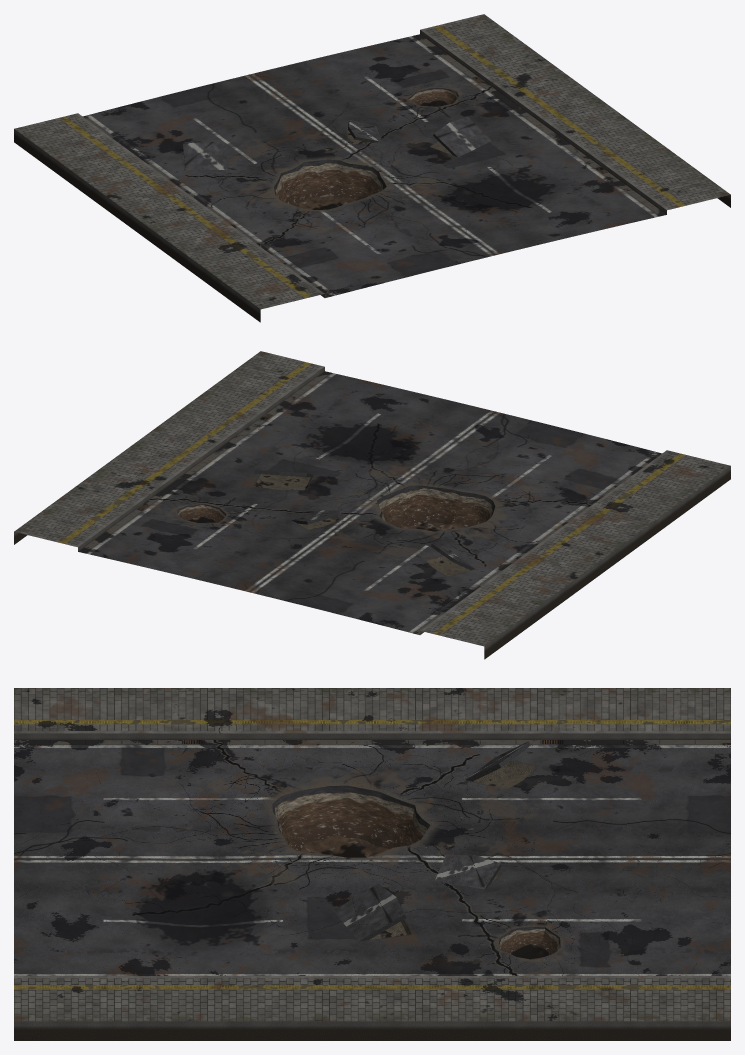
File: Road_Damaged.fbx
3 views of the same model, one above another, from view 1: azimuth 30°, elevation 25°; view 2: azimuth 150°, elevation 25°; view 3: azimuth 270°, elevation 25° (orthographic). The views are drawn at different scales.
Visible parts, largest first — view 1: Road_Damaged; view 2: Road_Damaged; view 3: Road_Damaged.
Part boxes in pixels (<box>): Road_Damaged: <box>14,14,730,322</box>; Road_Damaged: <box>14,351,730,659</box>; Road_Damaged: <box>14,688,730,1040</box>.
Size of the model in its own units: 2200 by 208 by 2000.
